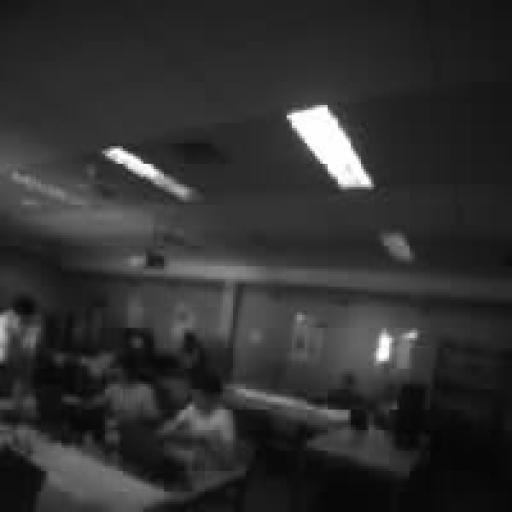human: (157, 372, 235, 471), (0, 295, 40, 409), (100, 359, 158, 422), (177, 331, 207, 378), (328, 372, 366, 409)
